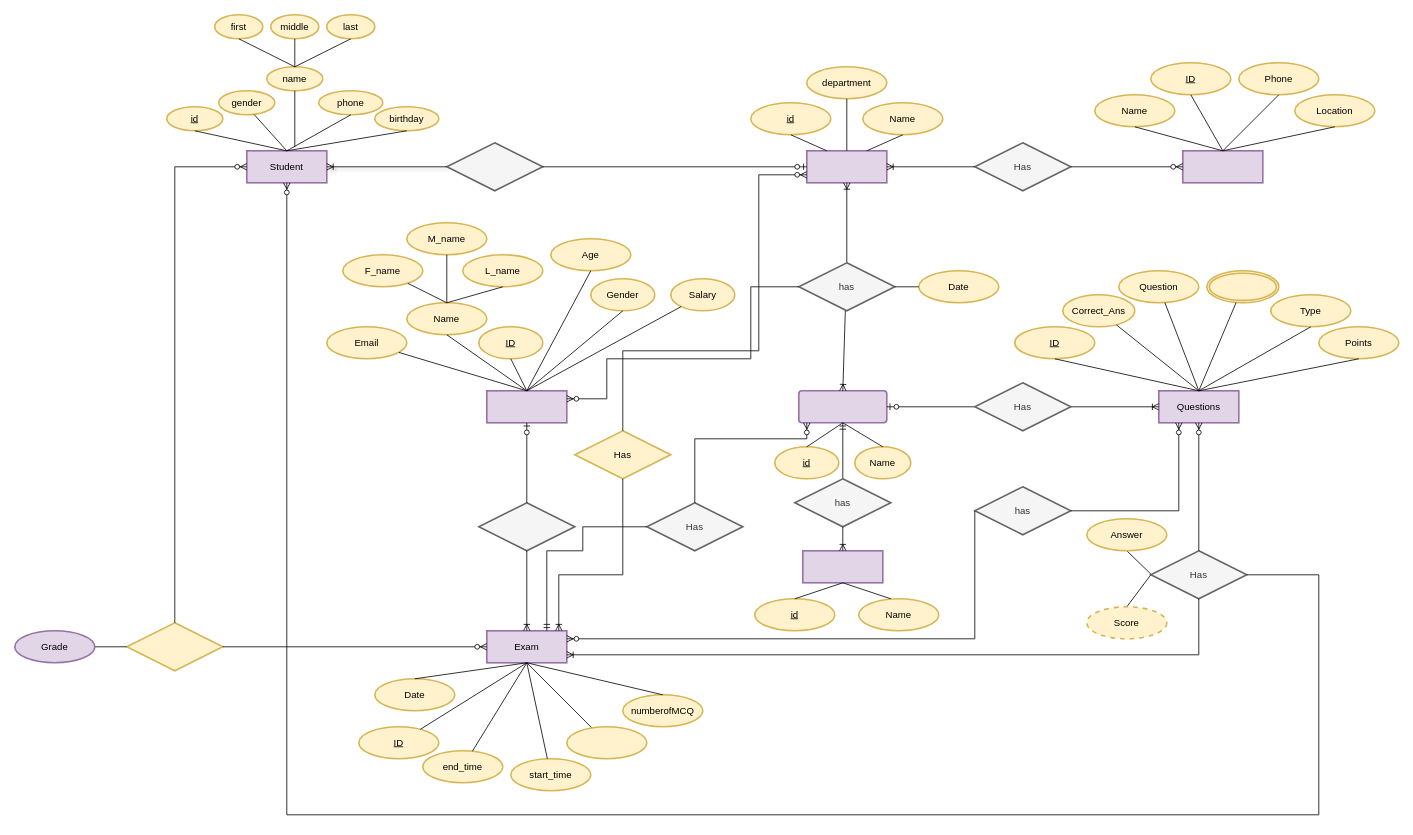
Image size: 1413x835. Some labels were removed from this diagram. Each missing label, with the centre of its shape:
Branch: pixel 1222 166
Choices: pixel 1242 286
contain: pixel 494 166
Course: pixel 842 406
Create: pixel 526 526
Instructor: pixel 526 406
numberOfTF: pixel 606 742
Take: pixel 174 646
Topic: pixel 842 566
Track: pixel 846 166
